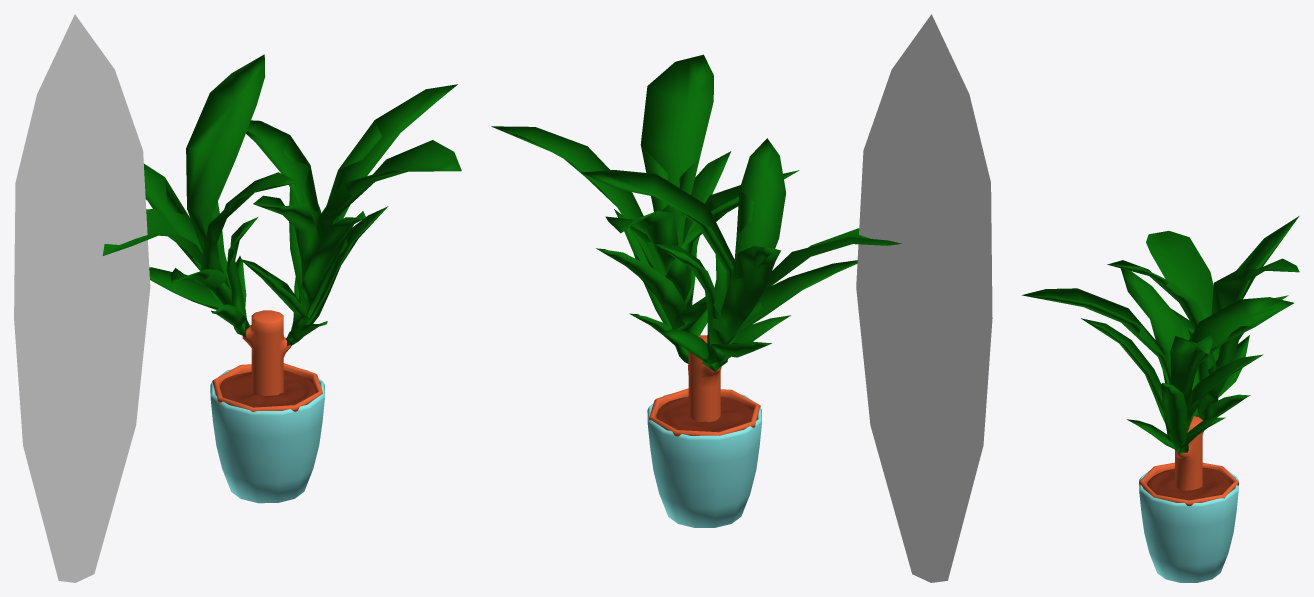
File: plant.glb
3 views of the same model, side by side, from view 1: azimuth 30°, elevation 25°; view 2: azimuth 150°, elevation 25°; view 3: azimuth 270°, elevation 25° (orthographic). The views are drawn at different scales.
Visible parts, largest first — view 1: Plane, indoor plant_02; view 2: Plane, indoor plant_02; view 3: indoor plant_02.
Boxes of the visible parts, x1=… form: Plane: x1=14, y1=14, x2=150, y2=582; indoor plant_02: x1=102, y1=54, x2=461, y2=503; Plane: x1=856, y1=14, x2=992, y2=582; indoor plant_02: x1=491, y1=54, x2=901, y2=527; indoor plant_02: x1=1022, y1=216, x2=1299, y2=582.
Bounding box in the file's own units: 8.26 × 9.49 × 4.86.
